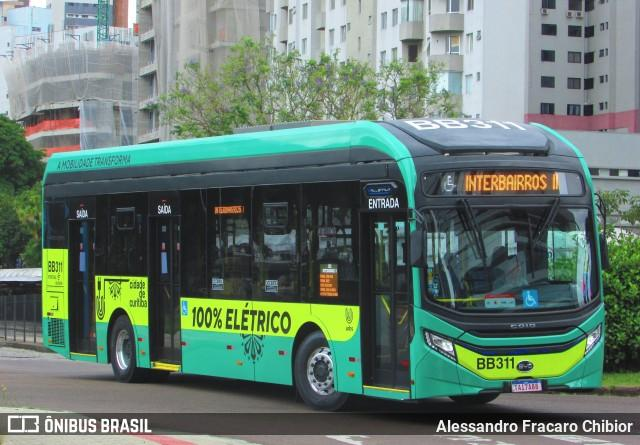INTERBAIRROS II: (459, 172, 561, 195)
